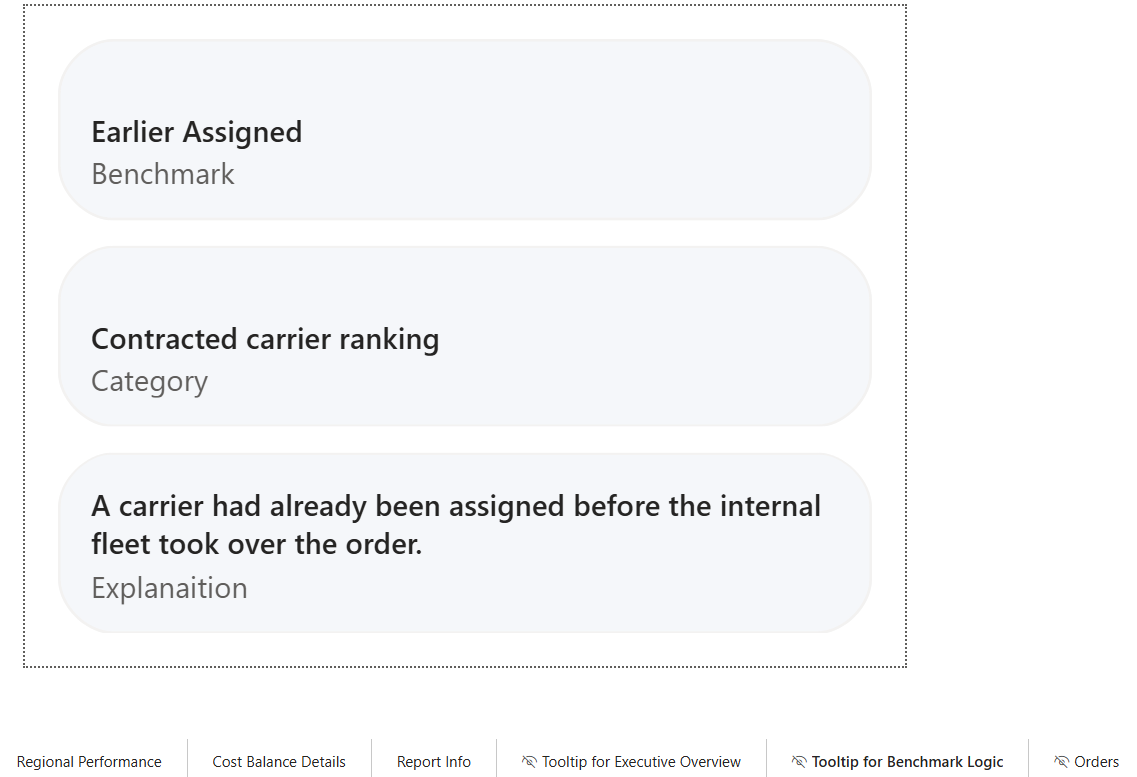

The dashboard page shown, as its layout file describes it:
{"tool":"powerbi","page":{"name":"Tooltip for Benchmark Logic","canvas":[320,240],"ordinal":6},"visuals":[{"type":"cardVisual","fields":{"Data":["Min(dim_cost_balance_source.cost_balance_source)","Min(dim_cost_balance_source.source_category)","Min(dim_cost_balance_source.business_explanation)"]},"box":[0,0,320,240],"z":0}]}

Visuals, with their boxes on the page's 320x240 design canvas (x1, y1, x2, y2). These are canvas units, not pixel positions in the 1137x777 screenshot, which may show the page scaled, cropped or inside an application window:
cardVisual - Min(dim_cost_balance_source.cost_balance_source) x Min(dim_cost_balance_source.source_category): left=0, top=0, right=320, bottom=240
